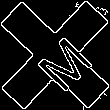M_NW: (21, 21, 89, 89)
